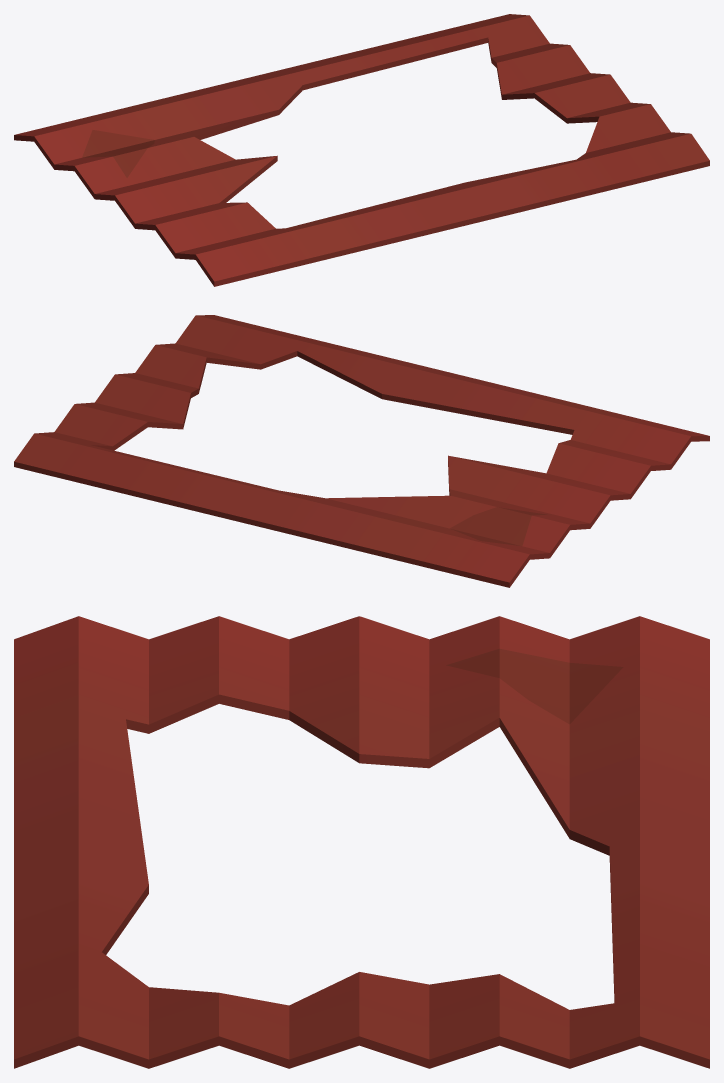
File: SheetMetal_B_3.fbx
The picture shows the model from 3 angles, top to bottom: view 1: azimuth 30°, elevation 25°; view 2: azimuth 150°, elevation 25°; view 3: azimuth 270°, elevation 25°; orthographic projection. The views are drawn at different scales.
Parts seen in each view (by area): view 1: SheetMetal_B_3; view 2: SheetMetal_B_3; view 3: SheetMetal_B_3.
Part boxes in pixels (bbox=[...]): SheetMetal_B_3: bbox=[14, 14, 709, 286]; SheetMetal_B_3: bbox=[14, 315, 709, 587]; SheetMetal_B_3: bbox=[14, 616, 709, 1068].
Size of the model in its own units: 137 by 4.96 by 96.03.
